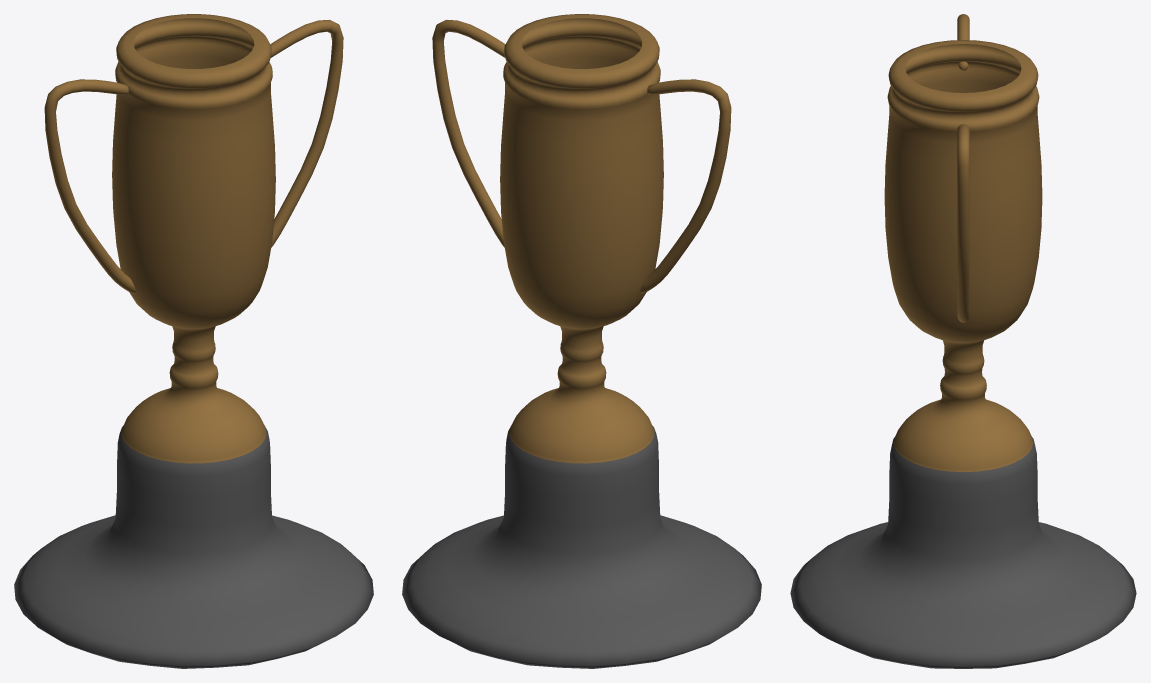
Rendered from Trophy1.fbx.
3 views of the same model, side by side, from view 1: azimuth 30°, elevation 25°; view 2: azimuth 150°, elevation 25°; view 3: azimuth 270°, elevation 25° (orthographic). The views are drawn at different scales.
Parts seen in each view (by area): view 1: Trophy1; view 2: Trophy1; view 3: Trophy1.
Part boxes in pixels (left/top/right/bottom): Trophy1: left=14, top=14, right=373, bottom=668; Trophy1: left=402, top=14, right=761, bottom=668; Trophy1: left=790, top=14, right=1136, bottom=668.
Size of the model in its own units: 64.63 by 110 by 64.63.
